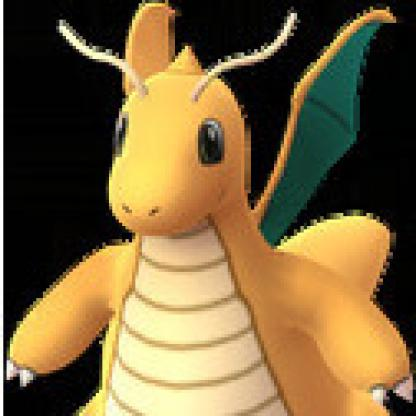Dragonite: (1, 1, 414, 414)
